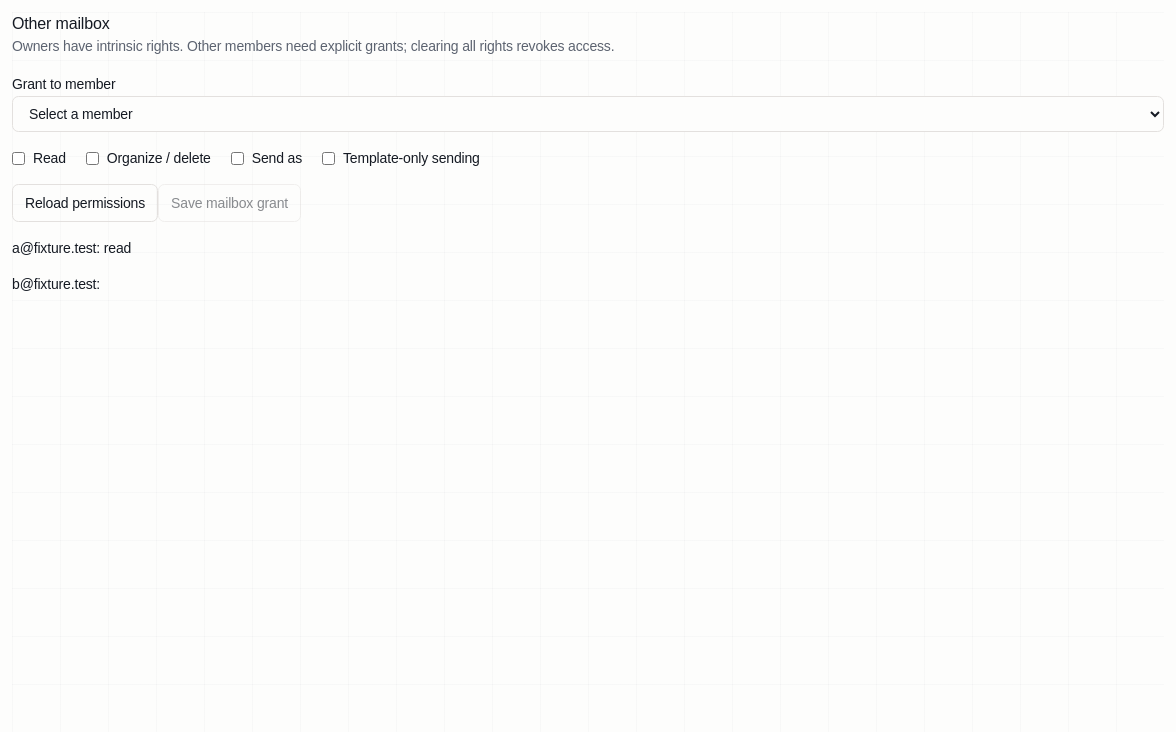
it: mailbox grant save ownership and acknowledged readback › does not mistake member A-to-B-to-A reselection for the original submitted intent
The width and height of the screenshot is (1176, 732).
Expected: the text "a@fixture.test: read" is shown, top-left (12, 240), bottom-right (131, 256)
Select "A · a@fixture.test" in the dropdown labelled "Grant to member" at (588, 114), box top-left (12, 96), bottom-right (1164, 132)
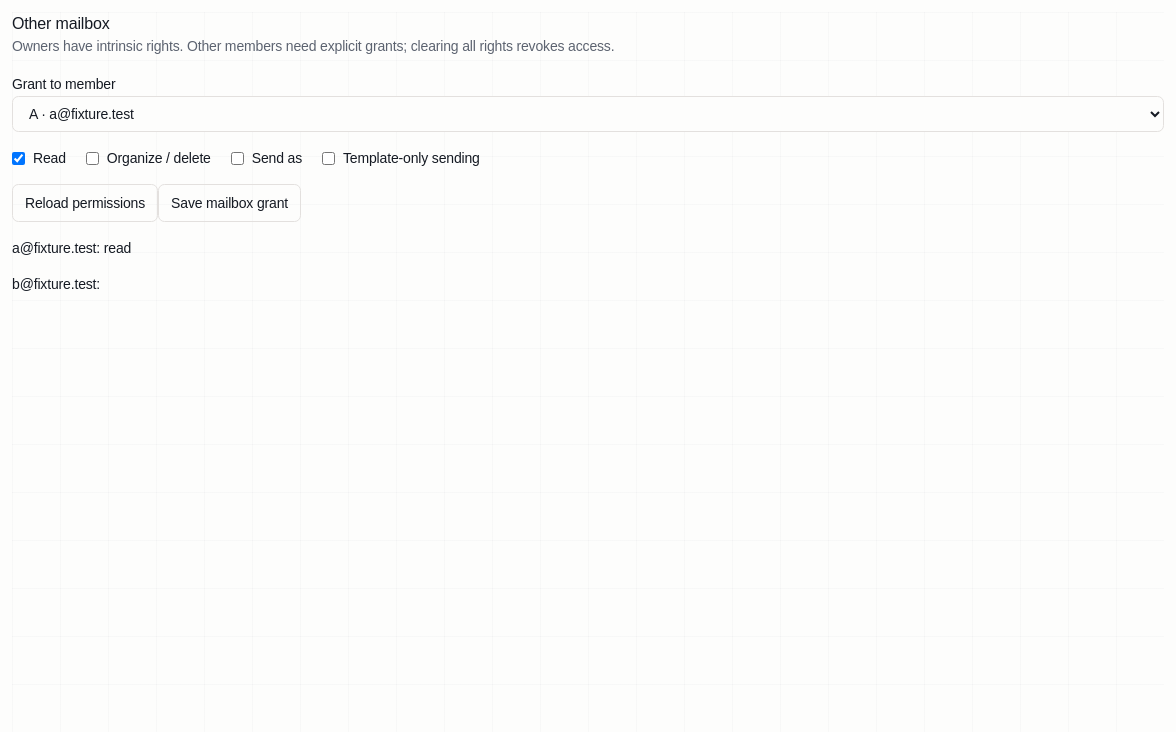
Click the checkbox labelled "Send as".
click(237, 158)  # box top-left (231, 152), bottom-right (244, 164)
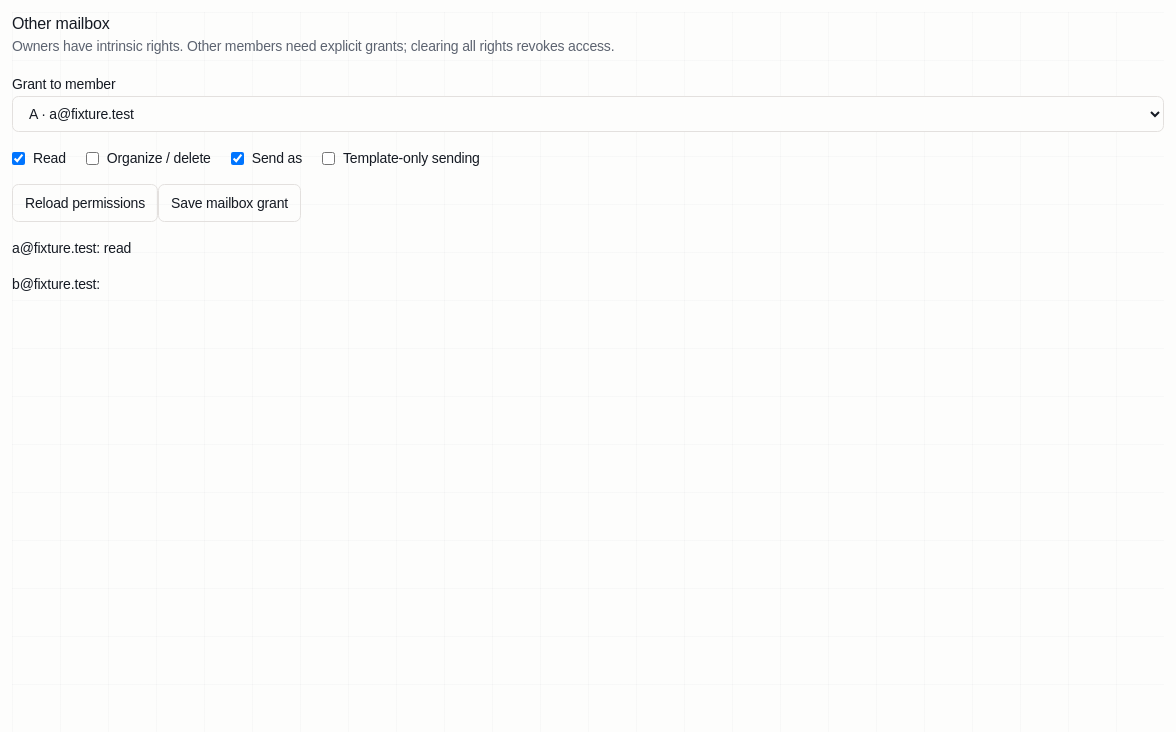
Click the button "Save mailbox grant".
click(230, 203)  # box top-left (158, 184), bottom-right (301, 222)
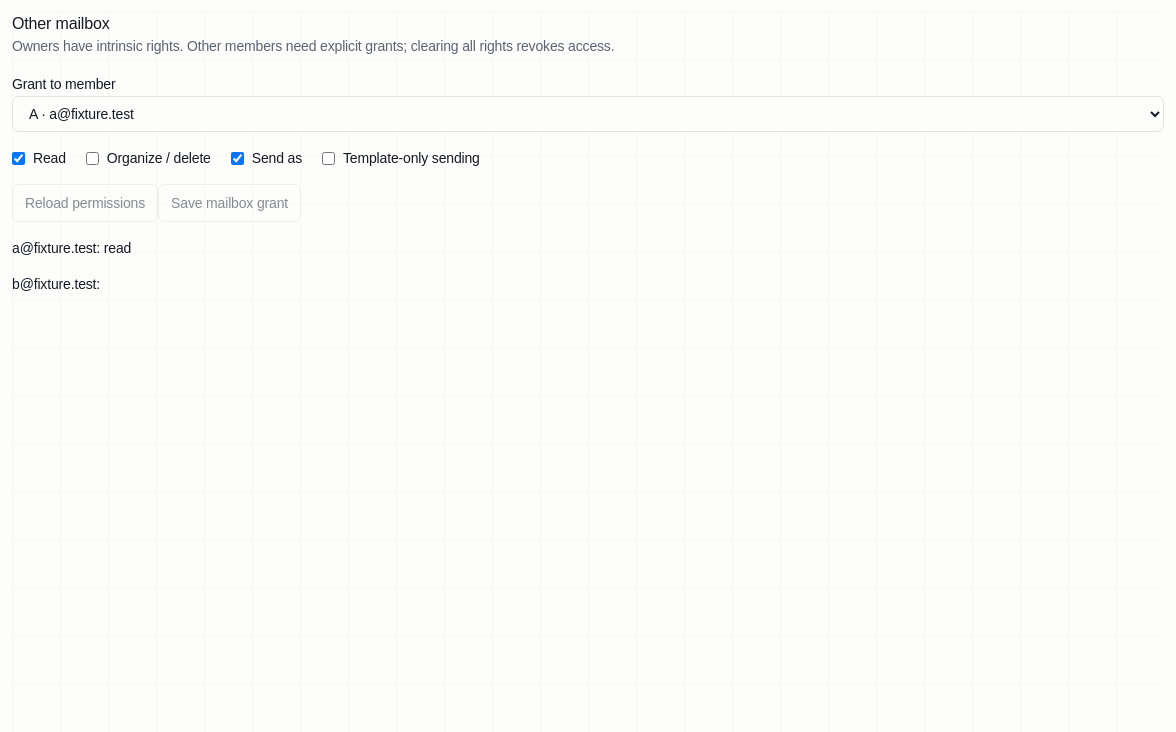
Select "B · b@fixture.test" in the dropdown labelled "Grant to member" at (588, 114), box top-left (12, 96), bottom-right (1164, 132)
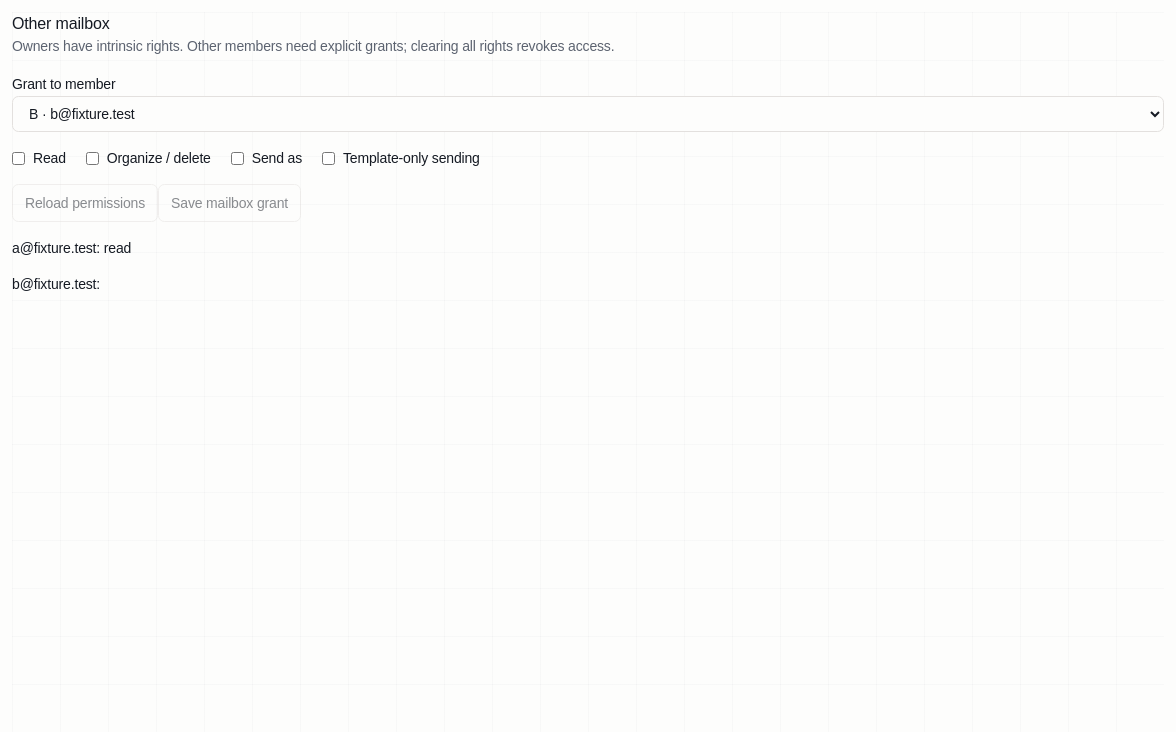
Select "A · a@fixture.test" in the dropdown labelled "Grant to member" at (588, 114), box top-left (12, 96), bottom-right (1164, 132)
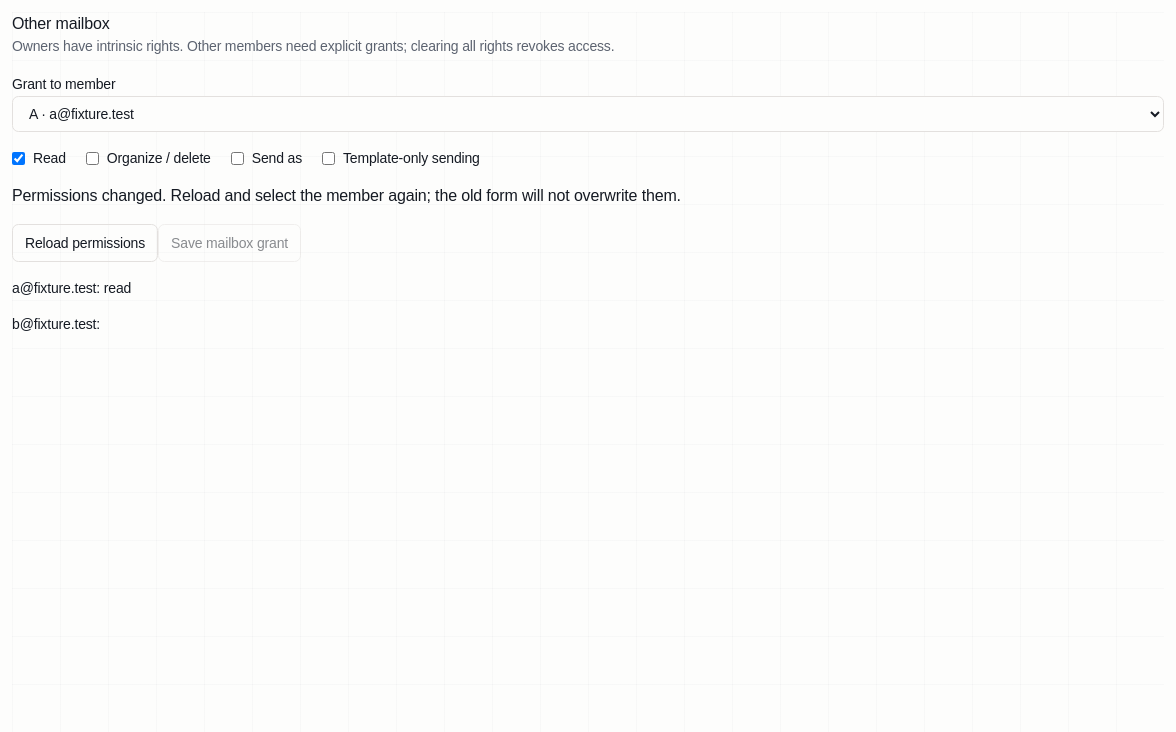
Expected: the checkbox labelled "Send as" is not checked, top-left (231, 152), bottom-right (244, 164)
Expected: the button "Save mailbox grant" is disabled, top-left (158, 224), bottom-right (301, 262)
Expected: the checkbox labelled "Read" is checked, top-left (12, 152), bottom-right (25, 164)
